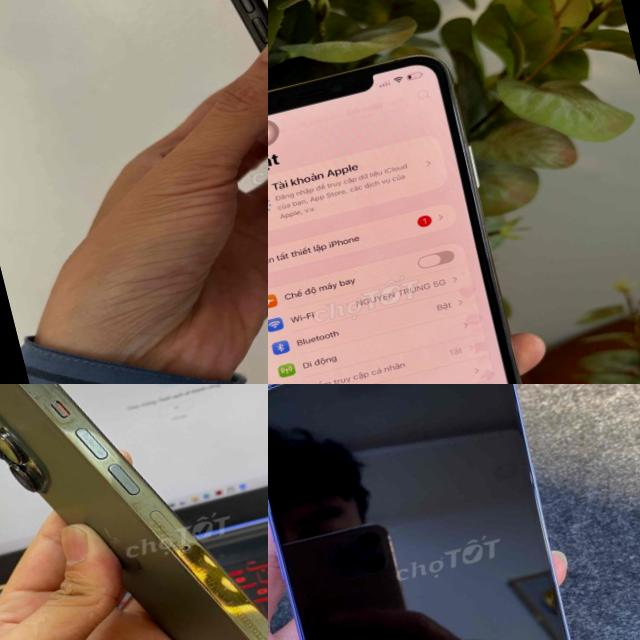gen_11: (268, 31, 554, 384)
gen_12_13: (0, 384, 268, 640)
gen_16: (268, 384, 569, 640)
gen_x_xs: (230, 0, 268, 51)
scratch: (132, 475, 268, 640), (0, 384, 61, 401), (268, 384, 293, 408)
